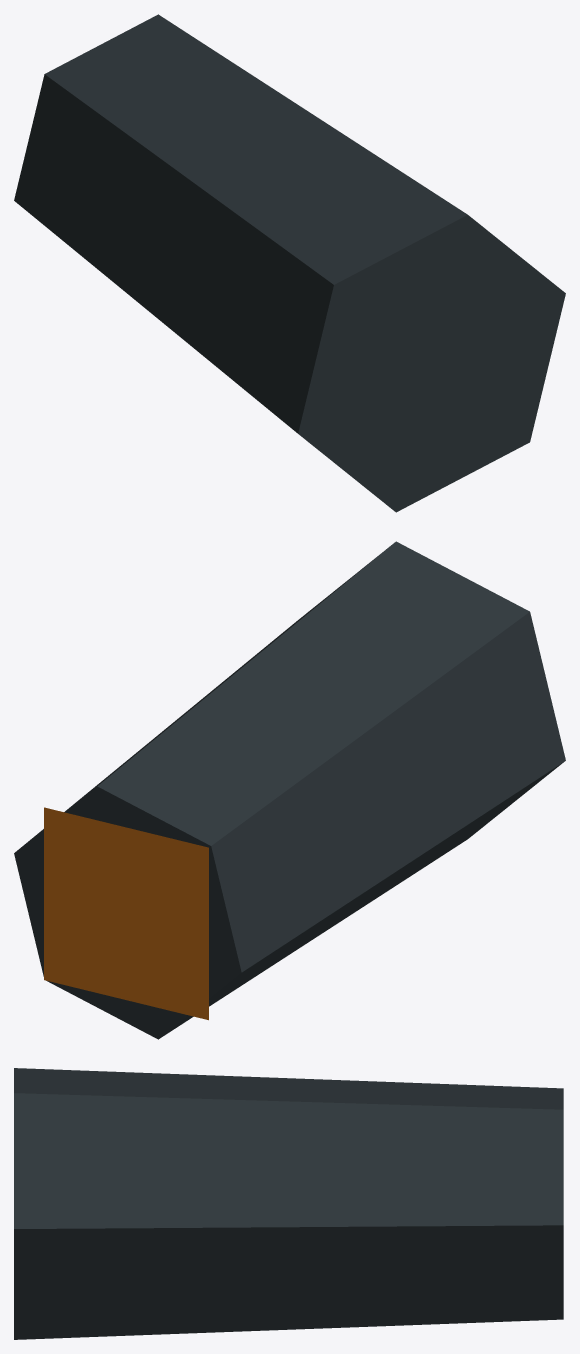
3 renders of one model, top to bottom at view 1: azimuth 30°, elevation 25°; view 2: azimuth 150°, elevation 25°; view 3: azimuth 270°, elevation 25°, orthographic. The views are drawn at different scales.
Parts seen in each view (by area): view 1: mount; view 2: mount; view 3: mount.
Part boxes in pixels (<box>): mount: <box>14,14,565,512</box>; mount: <box>14,541,565,1039</box>; mount: <box>14,1068,563,1339</box>.
Size of the model in its own units: 3.86 by 3.86 by 7.63.
